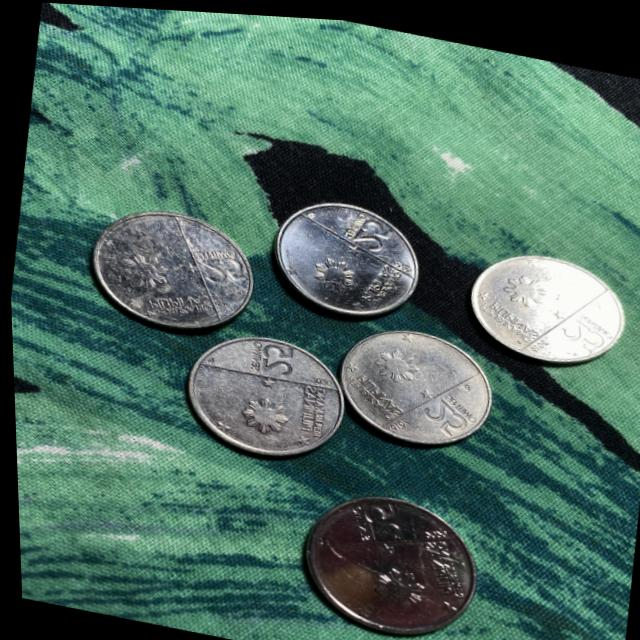25Cent_New_Front: (353, 492, 408, 541), (553, 310, 604, 351), (345, 211, 394, 253), (418, 392, 467, 434), (246, 337, 297, 376), (196, 249, 248, 287)
